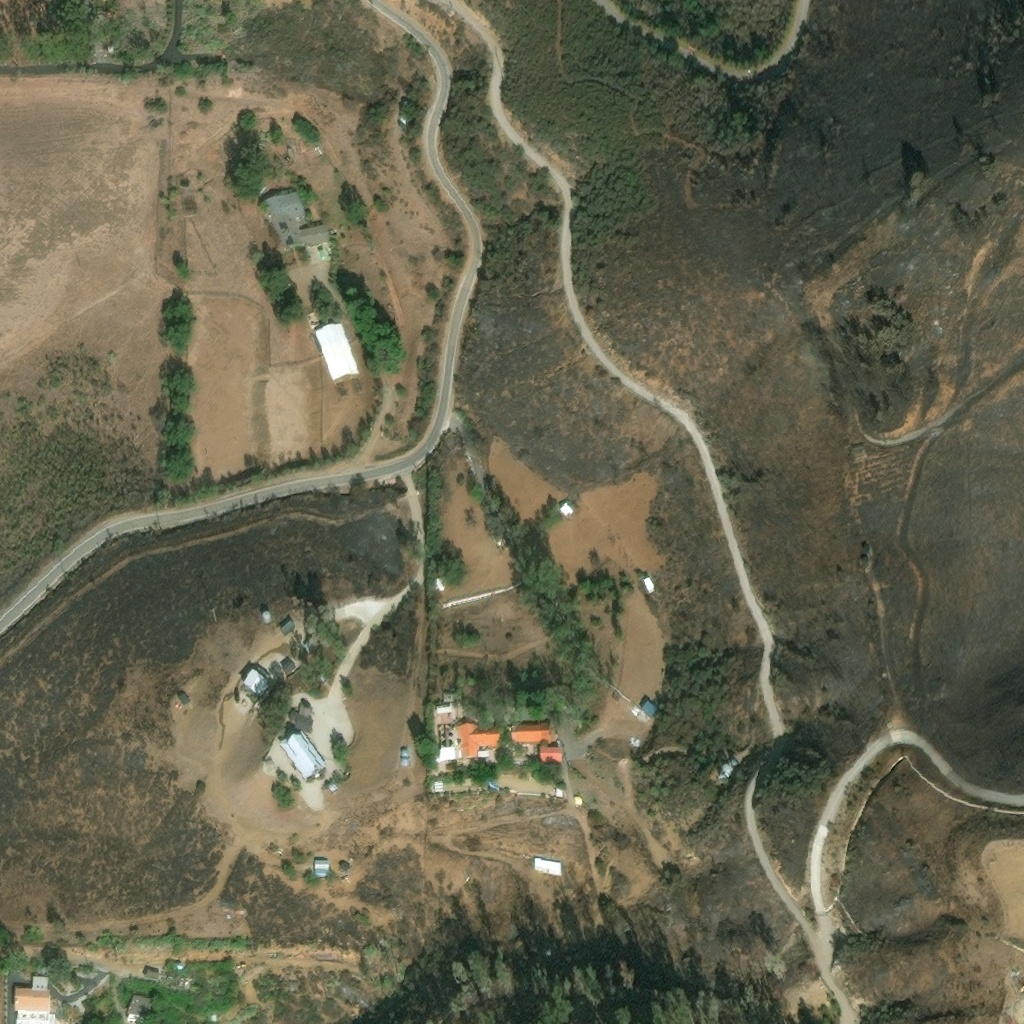0 no-damage: (259, 188, 332, 256), (431, 707, 501, 765), (314, 321, 361, 384), (278, 731, 328, 782), (13, 977, 50, 1023), (508, 724, 551, 748), (714, 753, 742, 783), (124, 996, 154, 1023), (241, 670, 269, 698), (288, 705, 313, 733), (160, 971, 191, 993), (531, 859, 562, 875), (396, 97, 412, 128), (538, 749, 562, 767), (641, 696, 661, 716), (279, 620, 296, 638), (280, 658, 298, 675), (313, 862, 329, 879), (642, 575, 656, 592), (177, 692, 191, 707), (400, 750, 410, 770), (144, 970, 159, 983), (559, 503, 573, 516), (327, 782, 340, 795), (434, 576, 444, 590), (261, 612, 271, 625), (432, 784, 442, 797), (339, 863, 350, 874), (630, 734, 641, 745), (442, 696, 454, 705), (317, 675, 326, 685), (574, 796, 583, 806), (555, 789, 563, 799), (207, 1017, 218, 1023), (174, 965, 183, 972), (236, 967, 246, 971)
3 destroyed: (217, 898, 251, 920), (107, 47, 114, 56)
